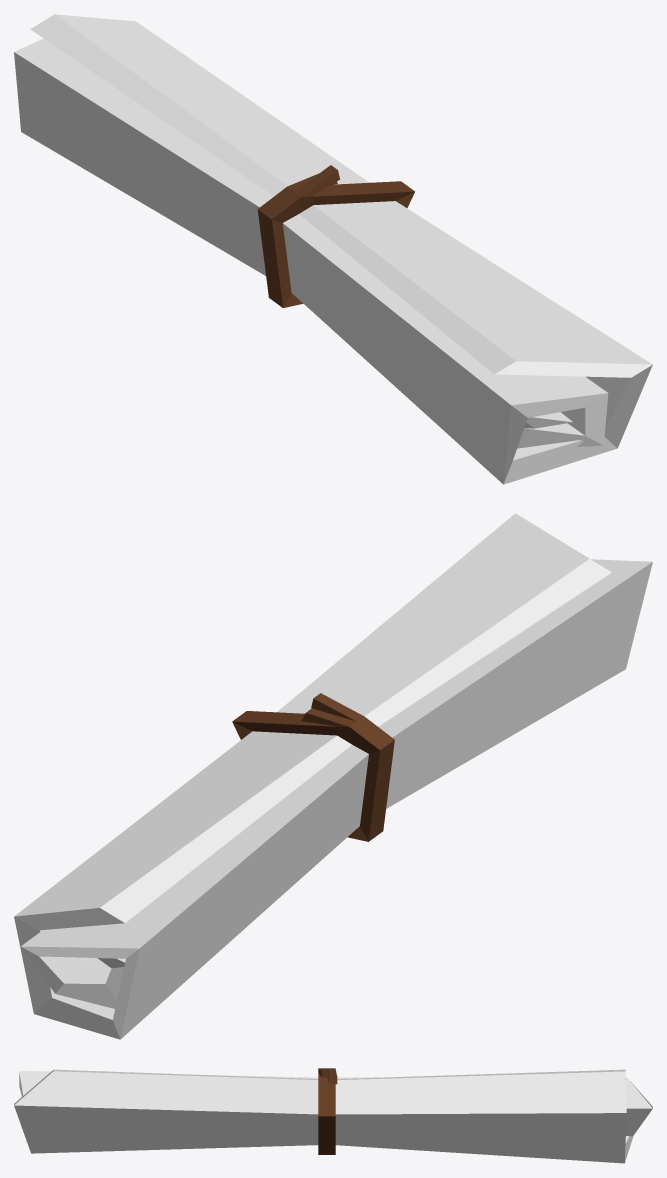
Rendered from paper05.gltf.
The picture shows the model from 3 angles, top to bottom: view 1: azimuth 30°, elevation 25°; view 2: azimuth 150°, elevation 25°; view 3: azimuth 270°, elevation 25°; orthographic projection. The views are drawn at different scales.
Parts seen in each view (by area): view 1: Cube; view 2: Cube; view 3: Cube.
Part boxes in pixels (<box>): Cube: <box>14,14,652,484</box>; Cube: <box>14,513,652,1039</box>; Cube: <box>14,1068,652,1163</box>.
Bounding box in the file's own units: 0.0411 × 0.0361 × 0.2499.
Materials: 1 (1 with a texture image).
